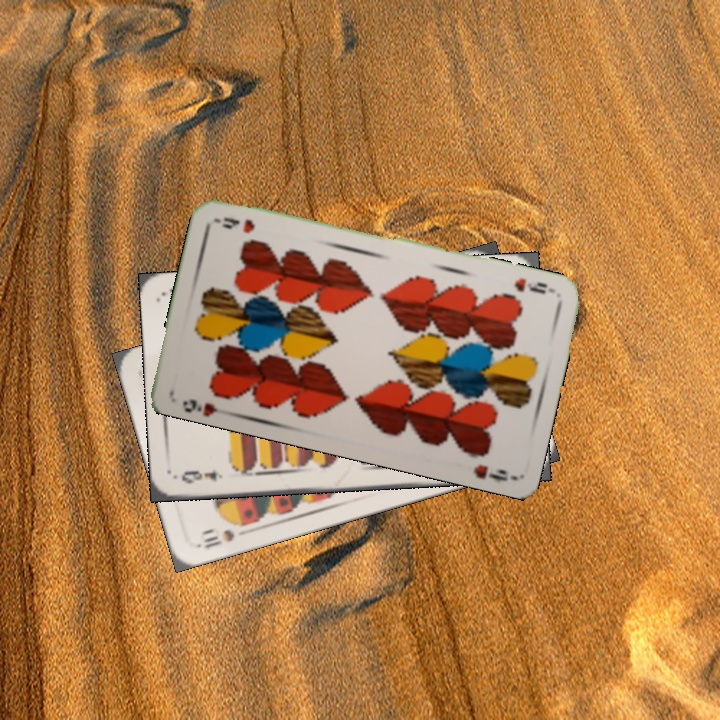E9: (177, 466, 225, 486)
H9: (178, 395, 220, 417), (510, 274, 550, 297)
S10: (193, 519, 249, 551)
